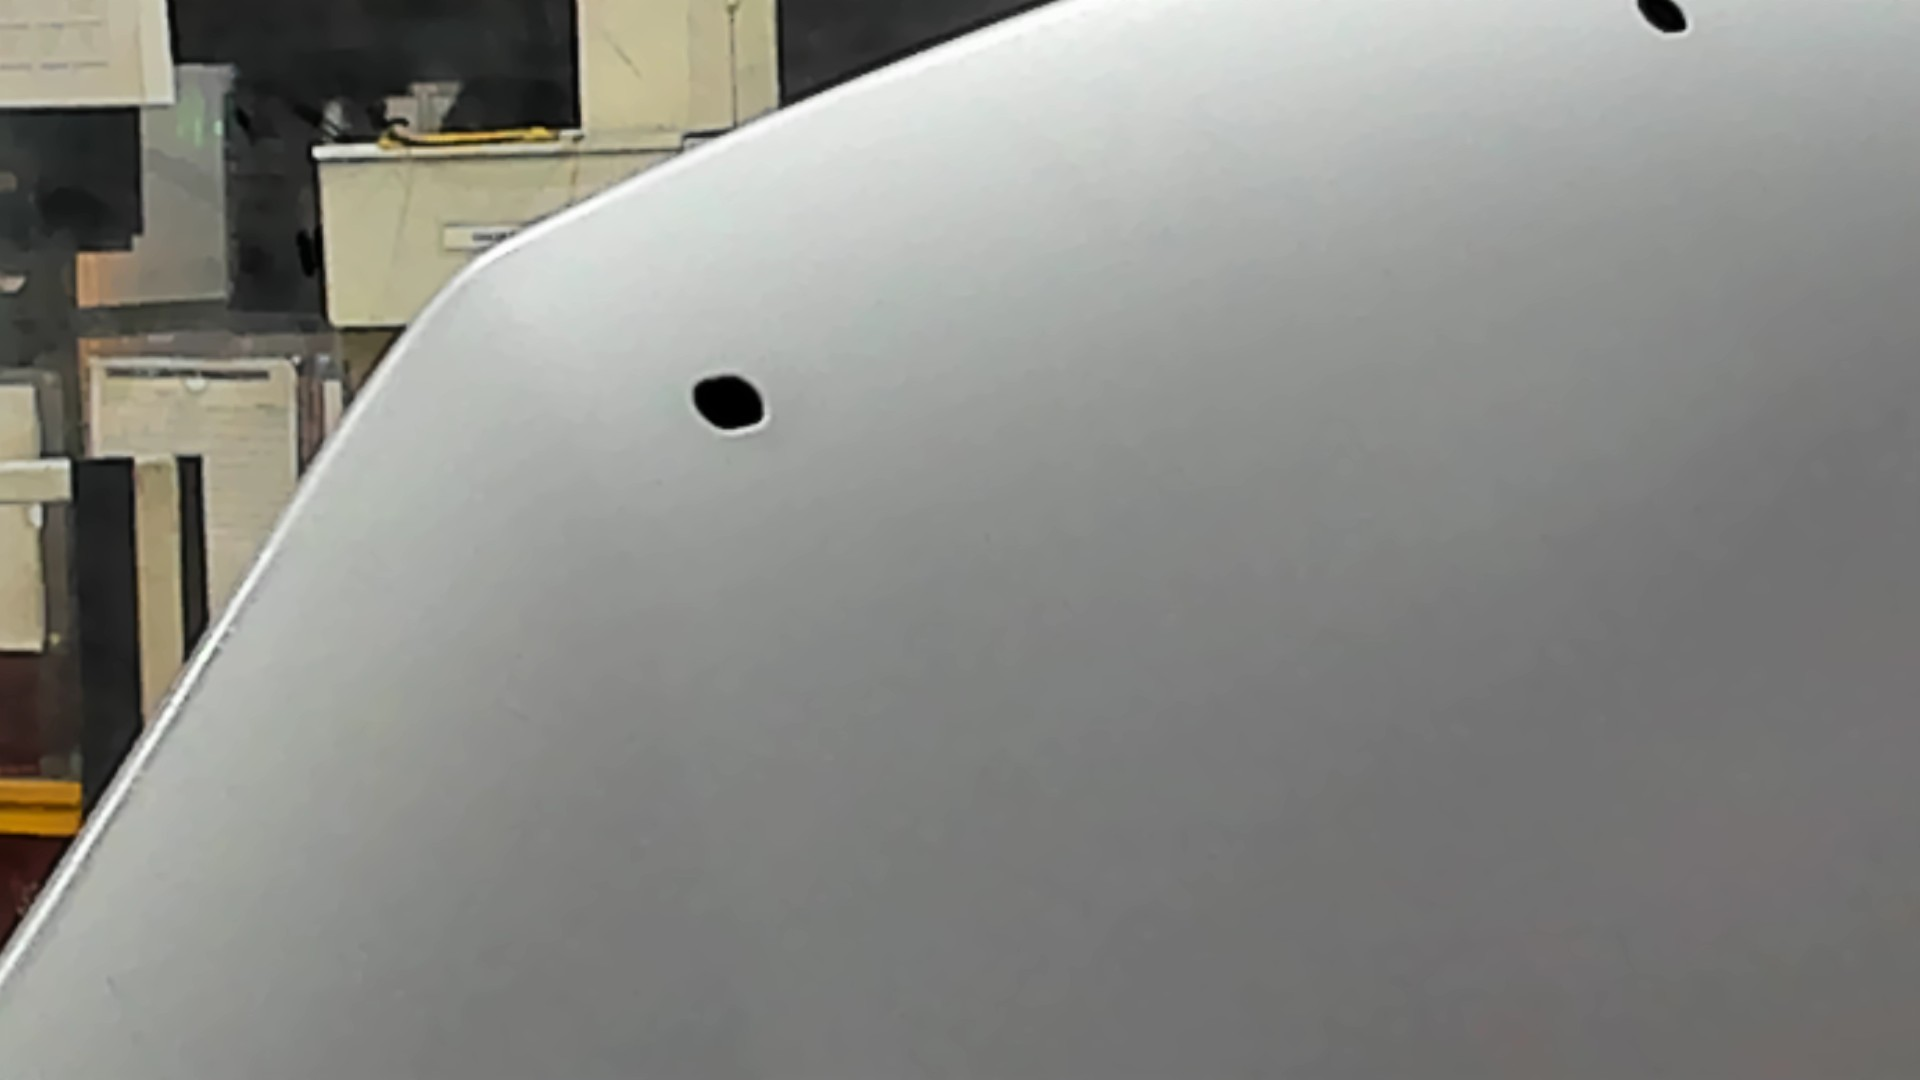Agujero: (684, 371, 771, 434), (1629, 1, 1695, 40)
